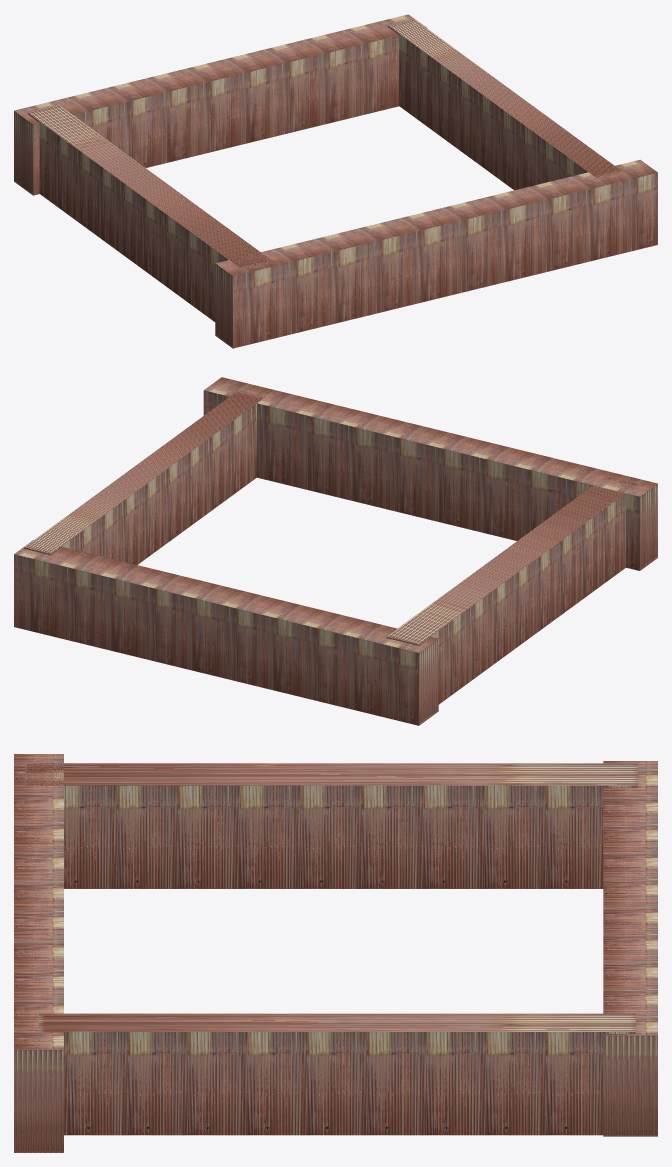
The model's file is AbsoluteWall.FBX.
3 views of the same model, one above another, from view 1: azimuth 30°, elevation 25°; view 2: azimuth 150°, elevation 25°; view 3: azimuth 270°, elevation 25° (orthographic). The views are drawn at different scales.
Parts seen in each view (by area): view 1: Box002, Box004, Box001, Box003; view 2: Box004, Box002, Box001, Box003; view 3: Box001, Box003, Box002, Box004.
Boxes of the visible parts, x1,y1,x2,y2 form: Box002: (215, 159, 657, 348); Box004: (14, 14, 427, 195); Box001: (27, 105, 273, 321); Box003: (388, 19, 623, 190); Box004: (14, 540, 438, 725); Box002: (203, 377, 657, 570); Box001: (386, 475, 639, 704); Box003: (24, 390, 265, 564); Box001: (25, 763, 637, 888); Box003: (38, 1013, 635, 1135); Box002: (14, 754, 63, 1152); Box004: (603, 761, 657, 1136).
Size of the model in its own units: 12963 by 11932 by 2111.
Materials: 1 (1 with a texture image).
